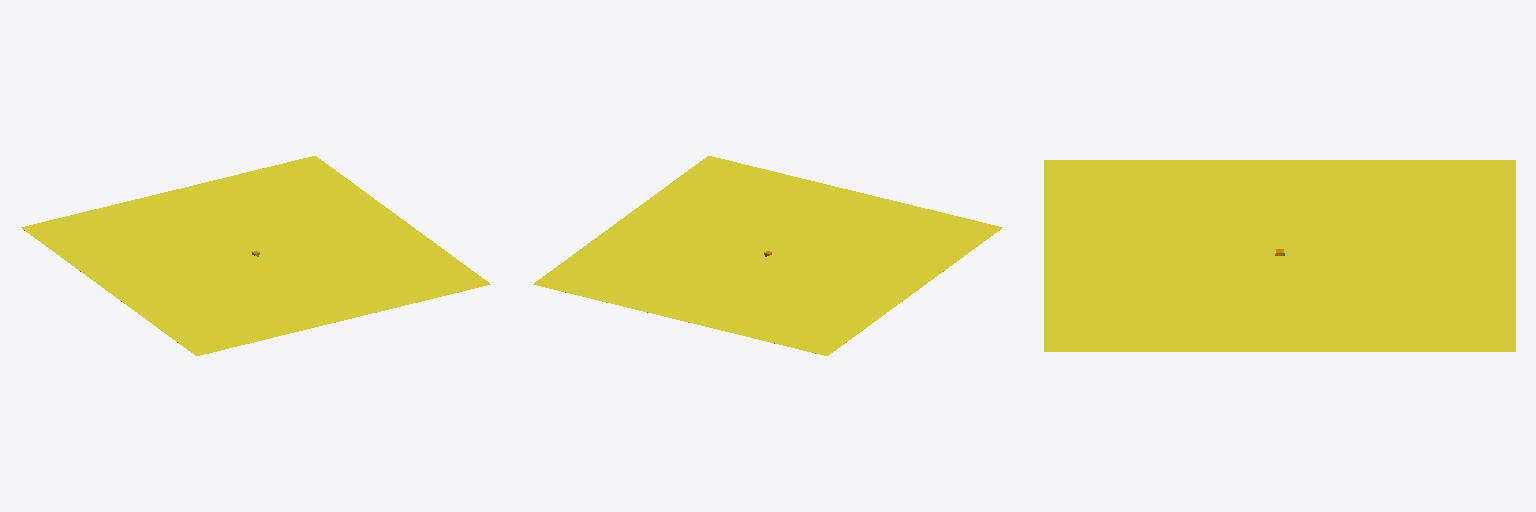
robot.urdf — simple_robot:
<?xml version="1.0"?>
<robot name="simple_robot">
  <link name="base_link">
    <visual>
      <geometry>
        <box size="0.5 0.5 0.25"/>
      </geometry>
      <pose>0 0 0.125 0 0 0</pose>
    </visual>
  </link>
  <link name="left_wheel">
    <visual>
      <geometry>
        <cylinder radius="0.1" length="0.05"/>
      </geometry>
    </visual>
  </link>
  <joint name="left_wheel_joint" type="continuous">
    <parent link="base_link"/>
    <child link="left_wheel"/>
    <origin xyz="0 -0.29 -0.13" rpy="1.5708 0 0"/>
    <axis xyz="0 1 0"/>
  </joint>
  <link name="right_wheel">
    <visual>
      <geometry>
        <cylinder radius="0.1" length="0.05"/>
      </geometry>
    </visual>
  </link>
  <joint name="right_wheel_joint" type="continuous">
    <parent link="base_link"/>
    <child link="right_wheel"/>
    <origin xyz="0 0.29 -0.13" rpy="1.5708 0 0"/>
    <axis xyz="0 1 0"/>
  </joint>
  <link name="map">
    <visual>
      <geometry>
        <mesh filename="package://description_2/meshes/map1.dae"/>
      </geometry>
      <pose>0 0 0.0 0 0 0</pose>
    </visual>
  </link>

  <!--- new from description_1 -->
  <material name="blue">
    <color rgba="0 0 1 1"/>
  </material>
  <joint name="map_joint" type="fixed">
    <parent link="base_footprint"/>
    <child link="map"/>
    <origin xyz="0 0 0" rpy="0 0 0"/>
  </joint>
  <link name="base_footprint">
    <visual>
      <geometry>
        <box size="0.5 0.5 0.001"/>
      </geometry>
      <pose>0 0 0 0 0 0</pose>
      <material name="blue"/>
    </visual>
  </link>

  <joint name="base_footprint_joint" type="fixed">
    <parent link="base_link"/>
    <child link="base_footprint"/>
    <origin xyz="0 0 -0.23" rpy="0 0 0"/>
  </joint>

</robot>

--- What the picture shows (computed from the rendered views, not written in the file) ---
3 views of the same robot in one strip: view 1: azimuth 30°, elevation 25°; view 2: azimuth 150°, elevation 25°; view 3: azimuth 270°, elevation 25° (orthographic).
Robot: simple_robot — 5 links, 4 joints (2 continuous, 2 fixed); root link base_link; default pose: all joints at 0.
Links seen in each view (by area): view 1: map; view 2: map; view 3: map.
Link boxes in pixels (x1,y1,x2,y2): map: (21,156,490,355); map: (533,156,1002,355); map: (1044,160,1515,351).
Bounding box of the posed robot: 29.8 × 30.8 × 0.356 m (x, y, z).
1 mesh visuals loaded from 1 distinct referenced files (1 Collada DAE).
